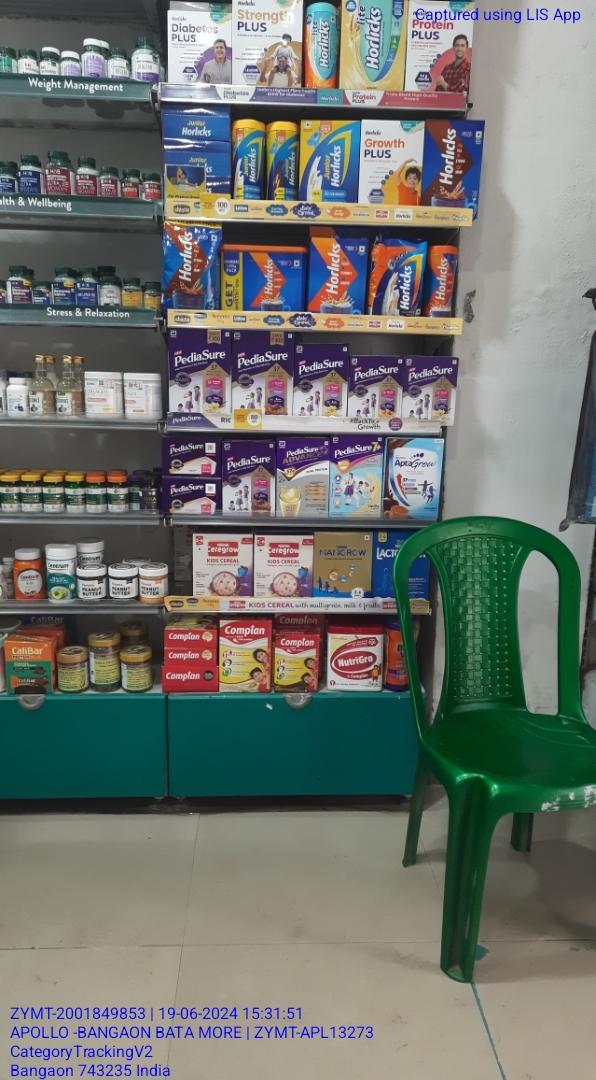HORLICKS_JUNIOR_VANILLA_500_GM_JAR: (234, 120, 267, 202)
HORLICKS_LITE_REGULAR_MALT_500_GM_JAR: (304, 4, 336, 90)
HORLICK_CHOCOLATE_750_G_POUCH: (165, 221, 218, 310)
HORLICK_CLASSIC_MALT_500_G_PACK: (311, 226, 367, 315)
HORLICK_MALT_1_KG_CONTAINER: (222, 245, 304, 312)
